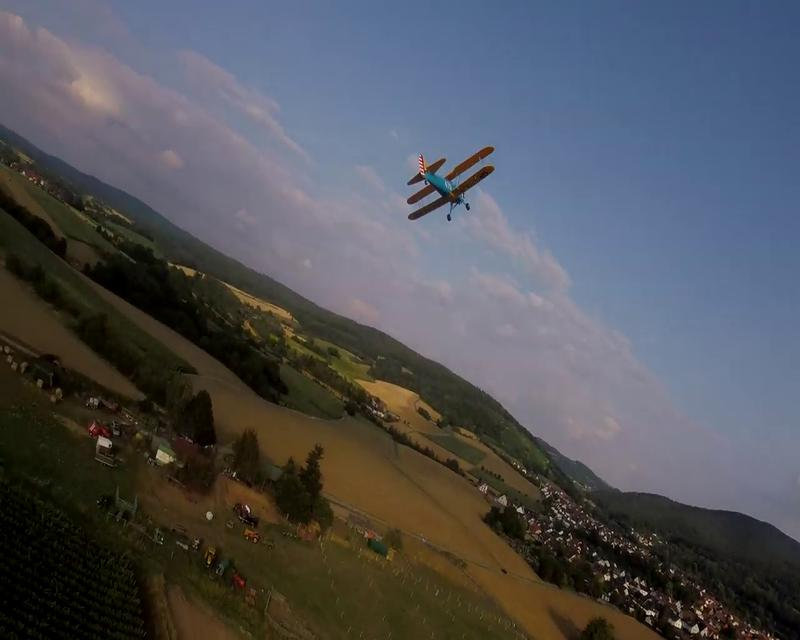UAV: (404, 144, 495, 222)
